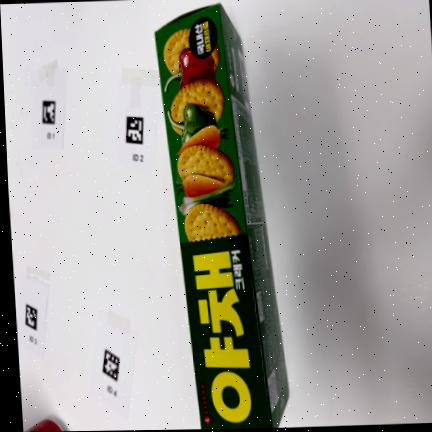cracker_vege: (155, 3, 288, 429)
